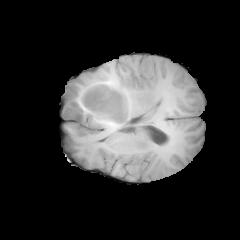glioma: (62, 73, 137, 135)
